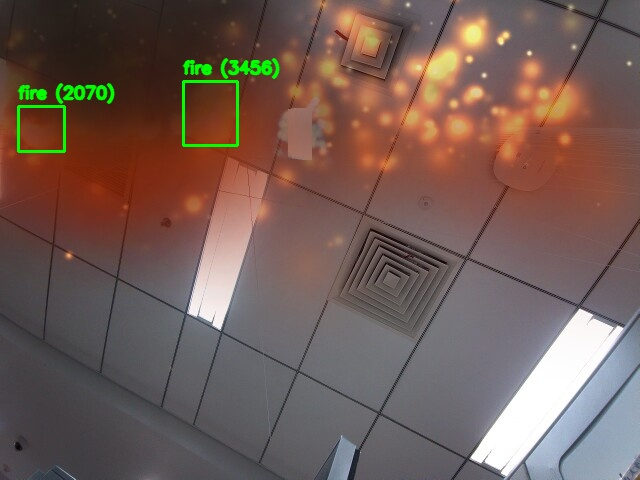fire: (183, 81, 237, 145), (18, 106, 64, 151)
